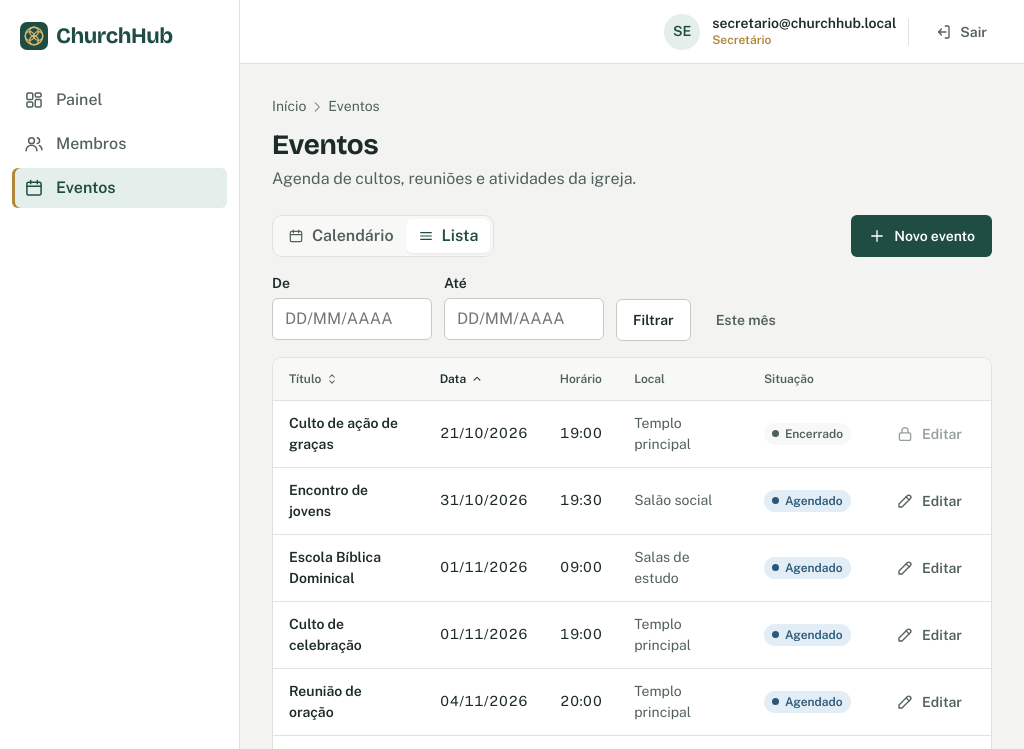
it: lista de eventos: filtro por período › com uma data só, avisa no campo e não consulta (o backend ignoraria o filtro)
The width and height of the screenshot is (1024, 749).
Type "01012030" into the field labelled "De" at (352, 319), box [272,298,432,340]
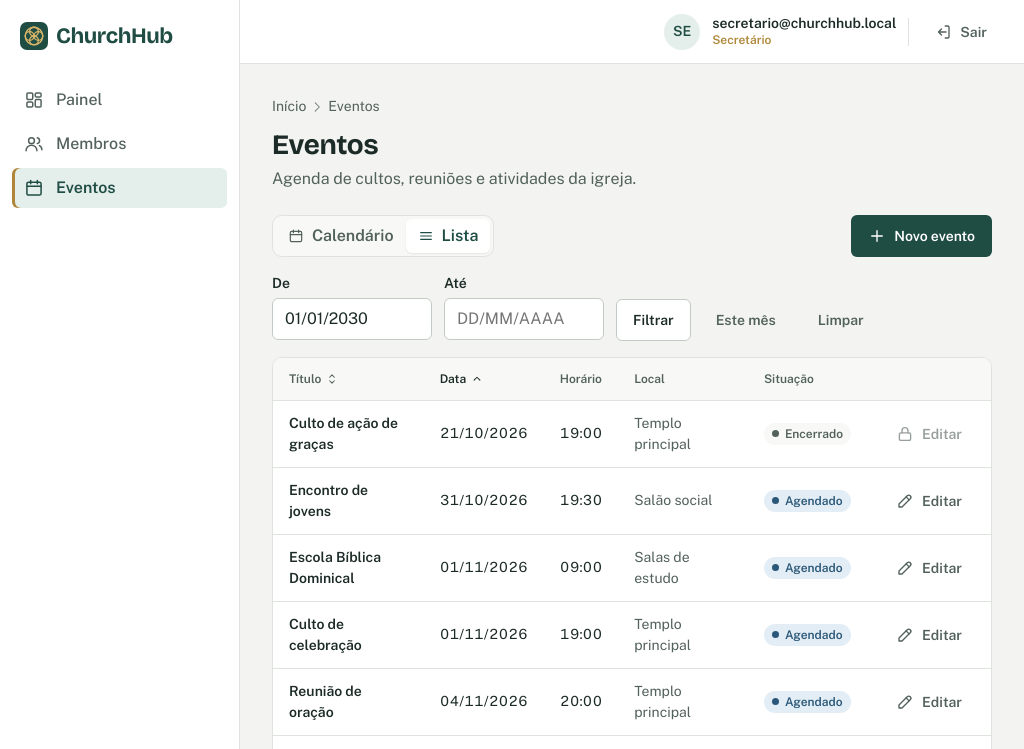
Click the button "Filtrar" at (653, 320), box [616,299,691,341]
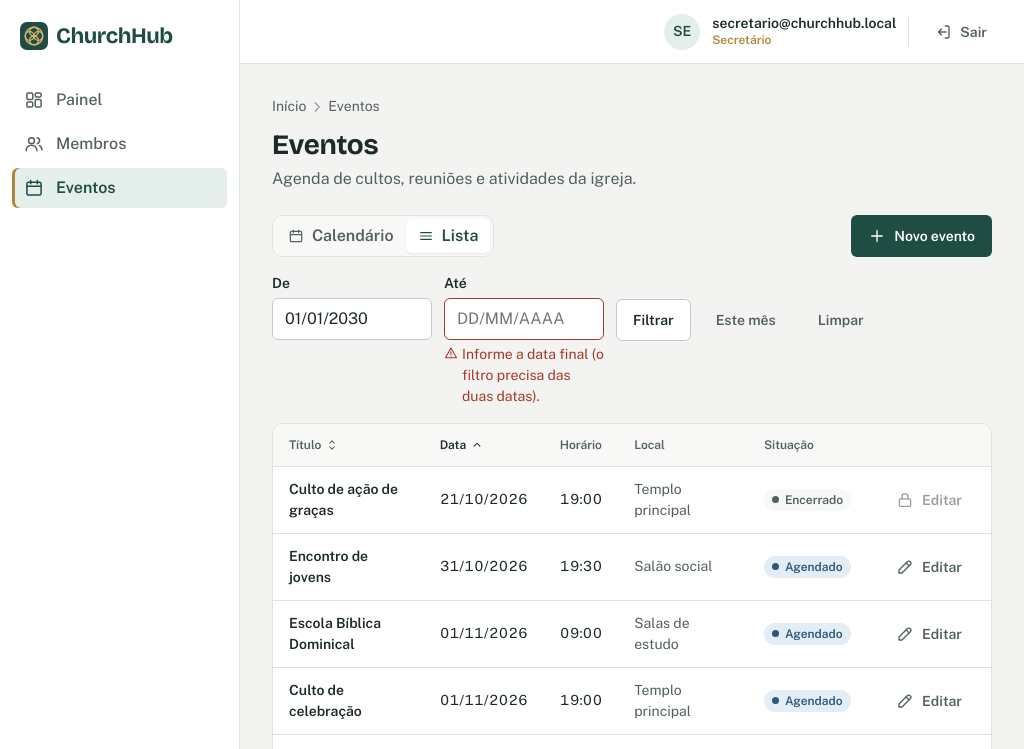
Check: the text "Informe a data final (o filtro precisa das duas datas)." is shown, box [444,344,604,407]
